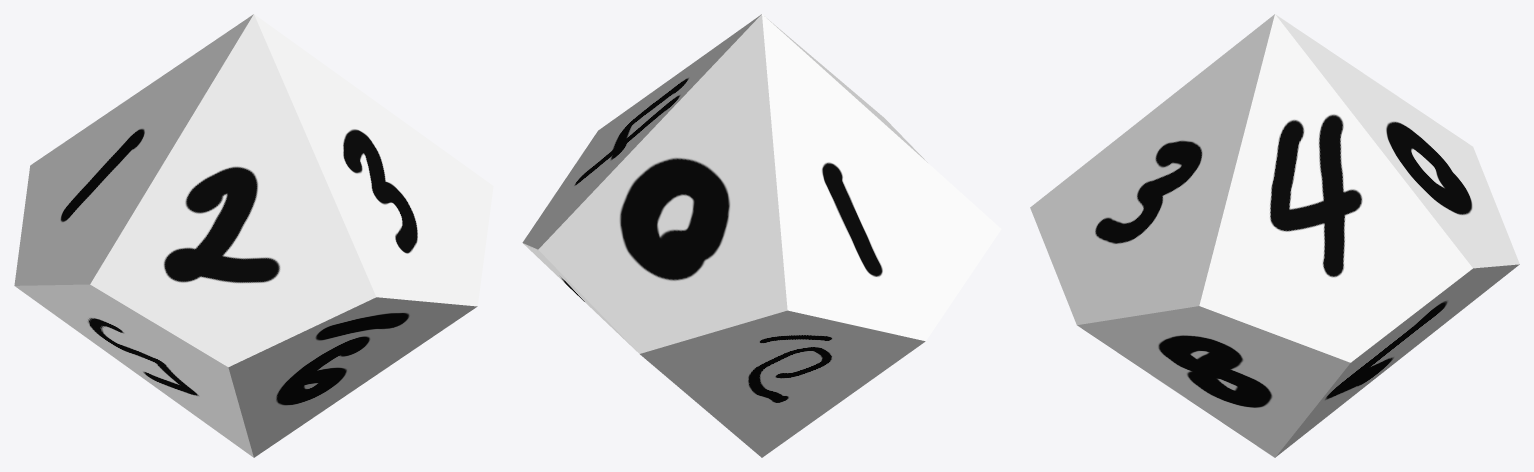
3 views of the same model, side by side, from view 1: azimuth 30°, elevation 25°; view 2: azimuth 150°, elevation 25°; view 3: azimuth 270°, elevation 25° (orthographic).
Parts seen in each view (by area): view 1: d10; view 2: d10; view 3: d10.
Part boxes in pixels (box(x1,y1,x2,y2)): d10: box(14, 14, 493, 457); d10: box(522, 14, 1001, 457); d10: box(1030, 14, 1519, 457).
Bounding box in the file's own units: 1.83 × 1.93 × 1.93.
1 material, 1 textured.
